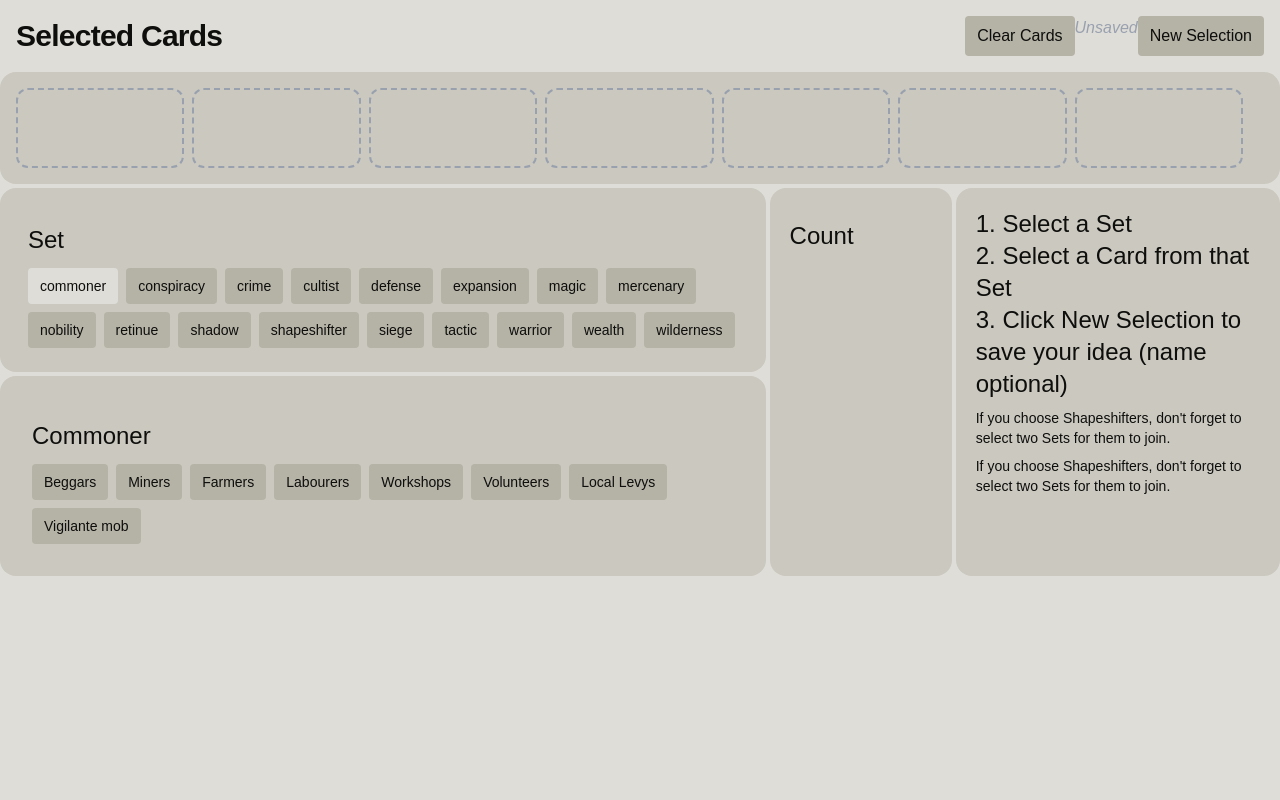
Test case: BuilderPage › removes a card when X is clicked
Click the button "warrior" at coordinates (530, 330), box [497,312,564,348]
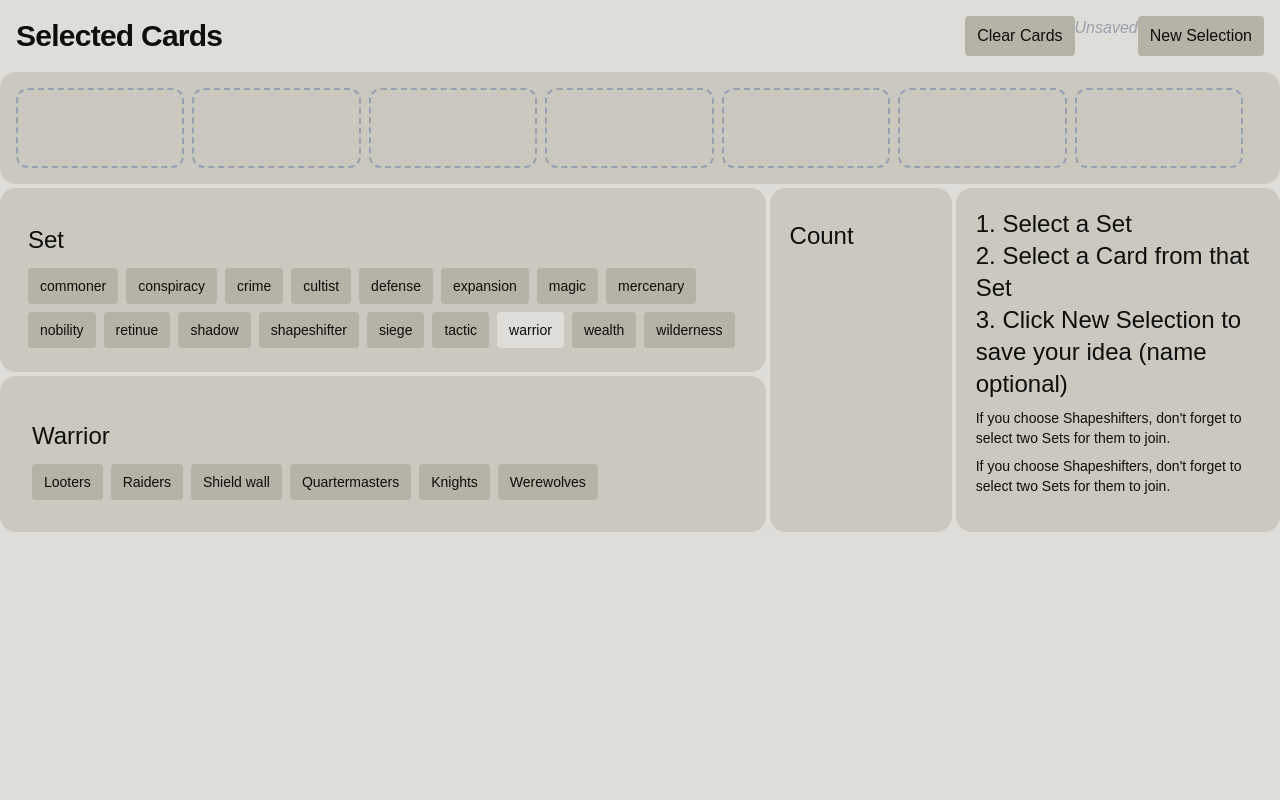
Click the button "Knights" at coordinates (454, 482), box [419,464,490,500]
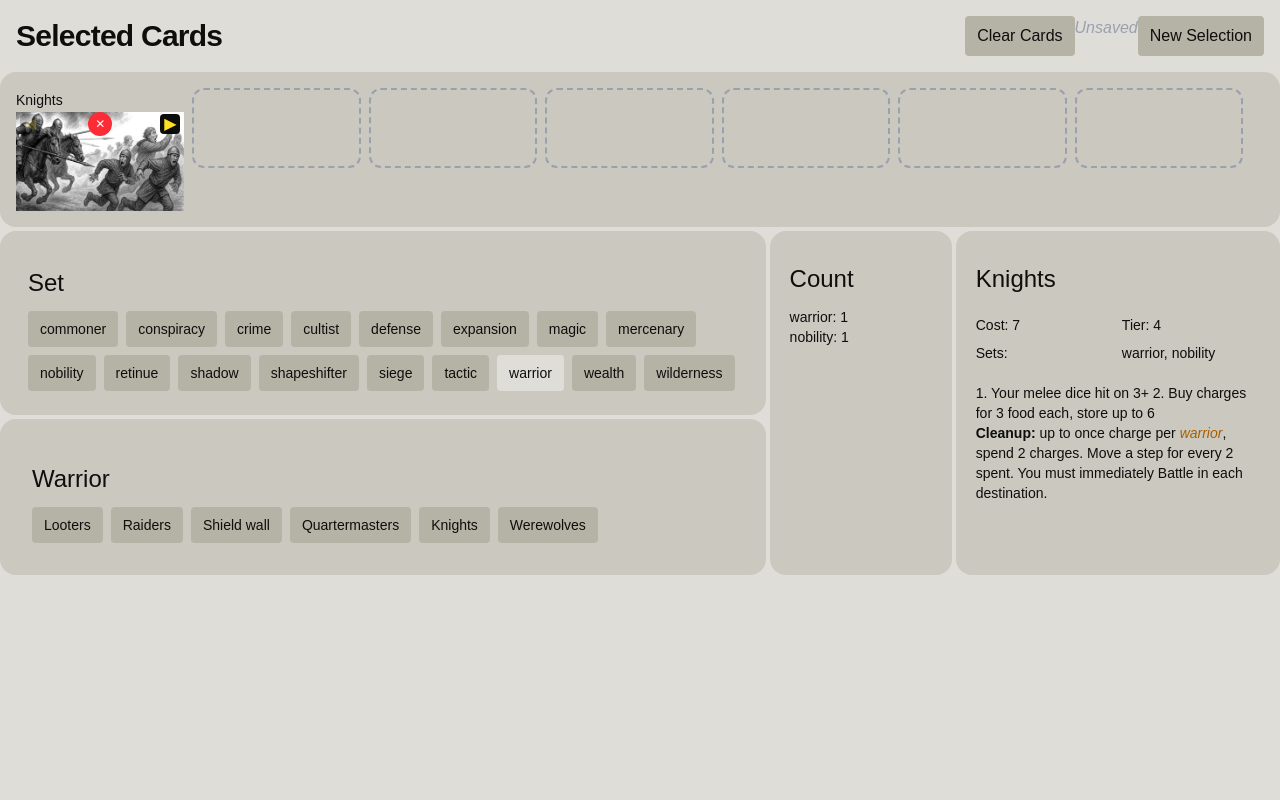
Click the button "✕" at coordinates (100, 124), box [88,112,112,136]
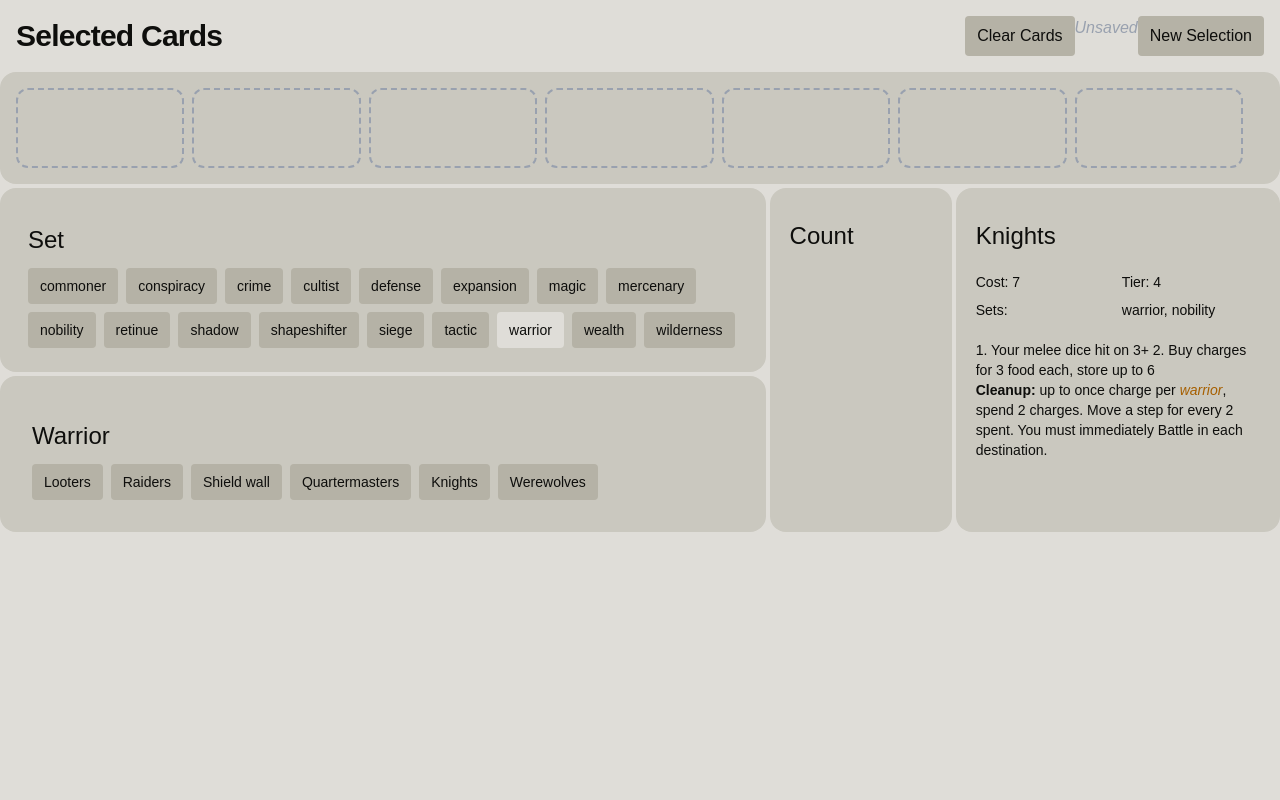
Expected: the picture with alt text "Knights" is gone
